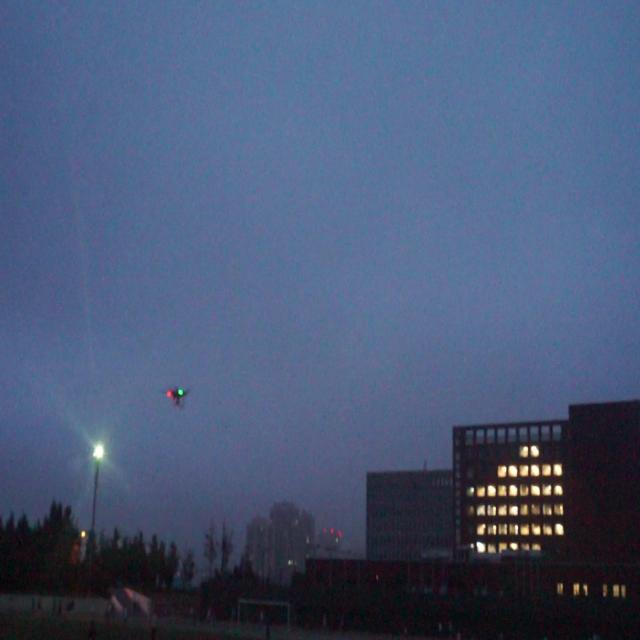UAV: (162, 385, 190, 407)
